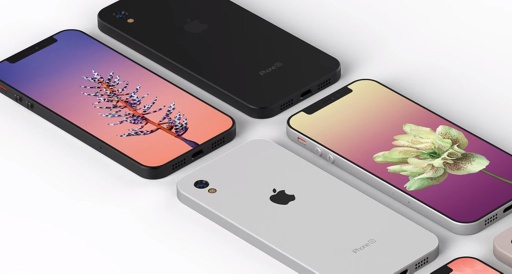apple: (266, 186, 305, 216)
